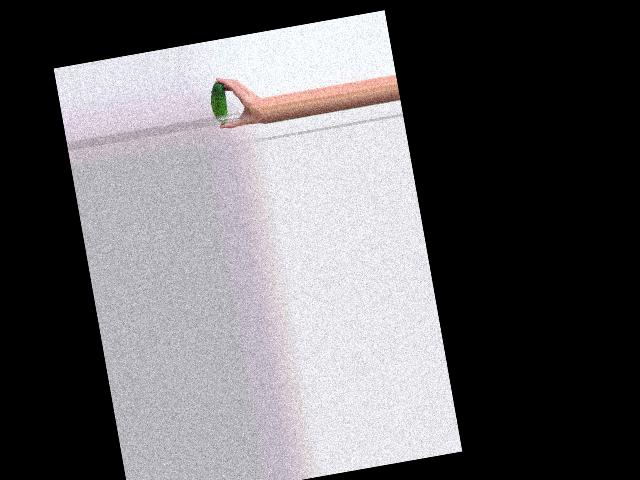cucumber: (207, 81, 230, 126)
